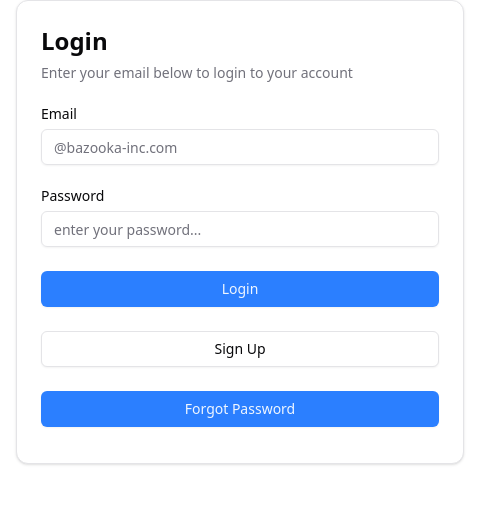
LoginForm - Vulnerability Tests › Form Submission › should display error message when login throws exception
In the field with placeholder "@bazooka-inc.com": (240, 147) [41,129,439,165], type "test@bazooka-inc.com"
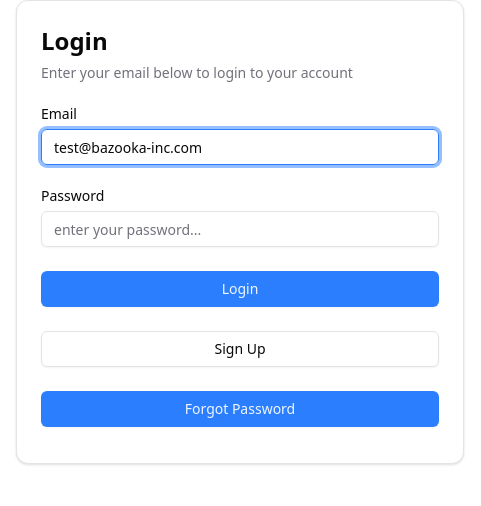
In the password field with placeholder "enter your password...": (240, 229) [41,211,439,247], type "password123"
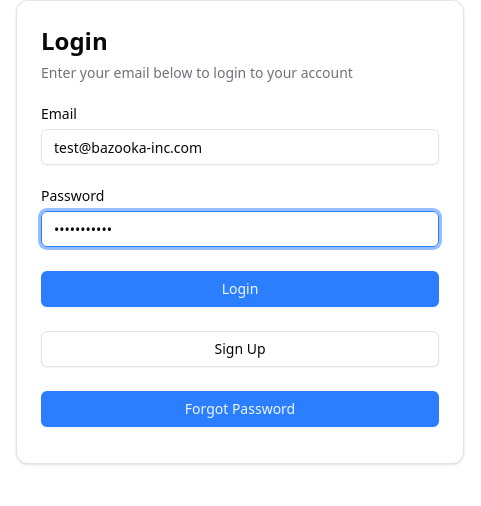
Click the button "Login": (240, 289) [41,271,439,307]
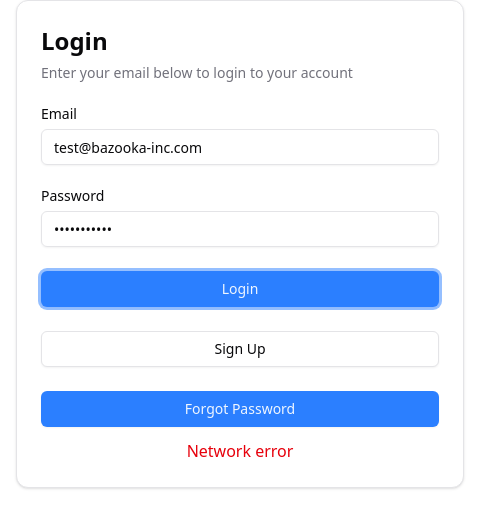
Now the text "Network error" is shown, box [187,440,293,462]
